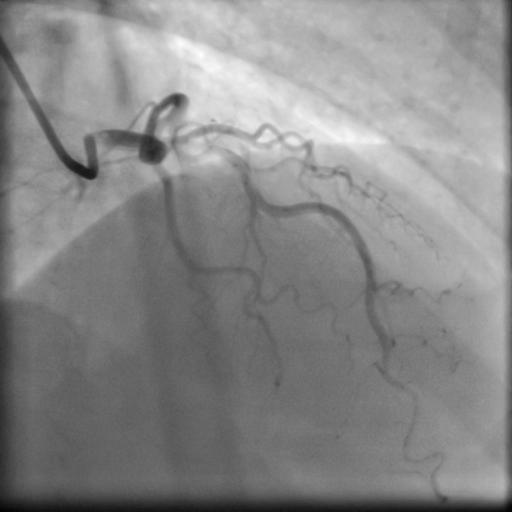Stenosis: (175, 137, 224, 156)
